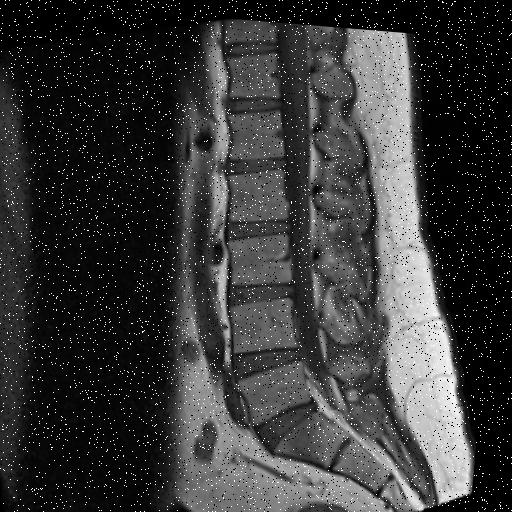L1: (231, 106, 287, 155)
L2: (230, 164, 291, 218)
L3: (232, 228, 297, 282)
L4: (236, 292, 301, 348)
L5: (245, 355, 316, 417)
S1: (283, 405, 354, 460)
